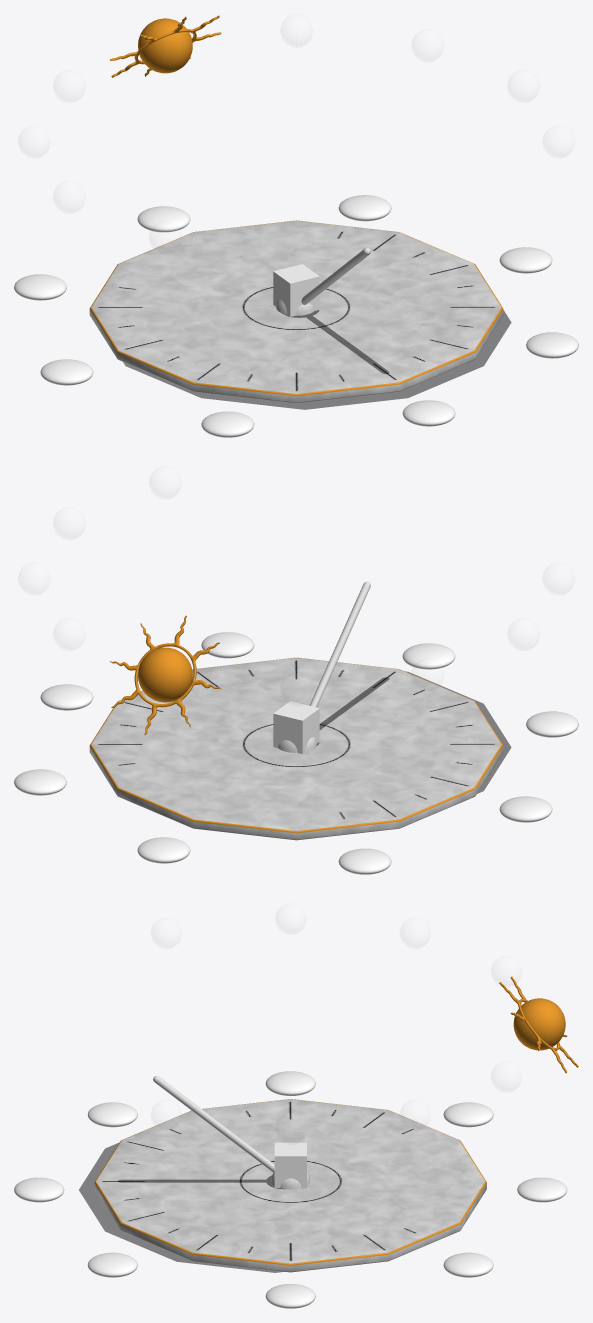
The model's file is MoveAroundSundail.glb.
3 views of the same model, one above another, from view 1: azimuth 30°, elevation 25°; view 2: azimuth 150°, elevation 25°; view 3: azimuth 270°, elevation 25° (orthographic). The views are drawn at different scales.
Parts seen in each view (by area): view 1: SundialBase, Shadow, Sun, Target, Button (2), Button (1), Button (3), Button (5), Button (6), Button (7), Button (4), Button (8) (+1 smaller); view 2: SundialBase, Sun, Target, Rod, Shadow, Button (2), Button (6), Button (1), Button (5), Button (8), Button (4), Button (3) (+1 smaller); view 3: SundialBase, Shadow, Sun, Rod, Target, Button (5), Button (6), Button (8), Button (3), Button (7), Button (4), Button (2) (+1 smaller).
Part boxes in pixels (bbox=[...]): SundialBase: bbox=[89, 220, 503, 403]; Shadow: bbox=[123, 310, 511, 409]; Sun: bbox=[109, 15, 221, 77]; Target: bbox=[273, 264, 319, 316]; Button (2): bbox=[499, 247, 552, 273]; Button (1): bbox=[40, 359, 93, 385]; Button (3): bbox=[201, 411, 254, 437]; Button (5): bbox=[402, 400, 455, 426]; Button (6): bbox=[137, 206, 190, 232]; Button (7): bbox=[526, 332, 578, 358]; Button (4): bbox=[338, 195, 391, 221]; Button (8): bbox=[14, 274, 66, 300]; SundialBase: bbox=[89, 657, 503, 840]; Sun: bbox=[110, 615, 221, 735]; Target: bbox=[273, 701, 319, 753]; Rod: bbox=[278, 581, 370, 752]; Shadow: bbox=[317, 671, 511, 793]; Button (2): bbox=[40, 684, 93, 710]; Button (6): bbox=[137, 837, 190, 863]; Button (1): bbox=[499, 796, 552, 822]; Button (5): bbox=[402, 643, 455, 669]; Button (8): bbox=[338, 848, 391, 874]; Button (4): bbox=[14, 769, 66, 795]; Button (3): bbox=[526, 711, 578, 737]; SundialBase: bbox=[94, 1099, 486, 1272]; Shadow: bbox=[79, 1143, 284, 1272]; Sun: bbox=[499, 976, 578, 1073]; Rod: bbox=[153, 1076, 310, 1189]; Target: bbox=[274, 1142, 306, 1188]; Button (5): bbox=[14, 1177, 64, 1202]; Button (6): bbox=[517, 1177, 567, 1202]; Button (8): bbox=[443, 1102, 493, 1127]; Button (3): bbox=[87, 1102, 137, 1127]; Button (7): bbox=[87, 1252, 137, 1277]; Button (4): bbox=[443, 1252, 493, 1277]; Button (2): bbox=[265, 1284, 315, 1308].
Size of the model in its own units: 1.1 by 0.5447 by 1.12.
6 materials, 1 textured.
